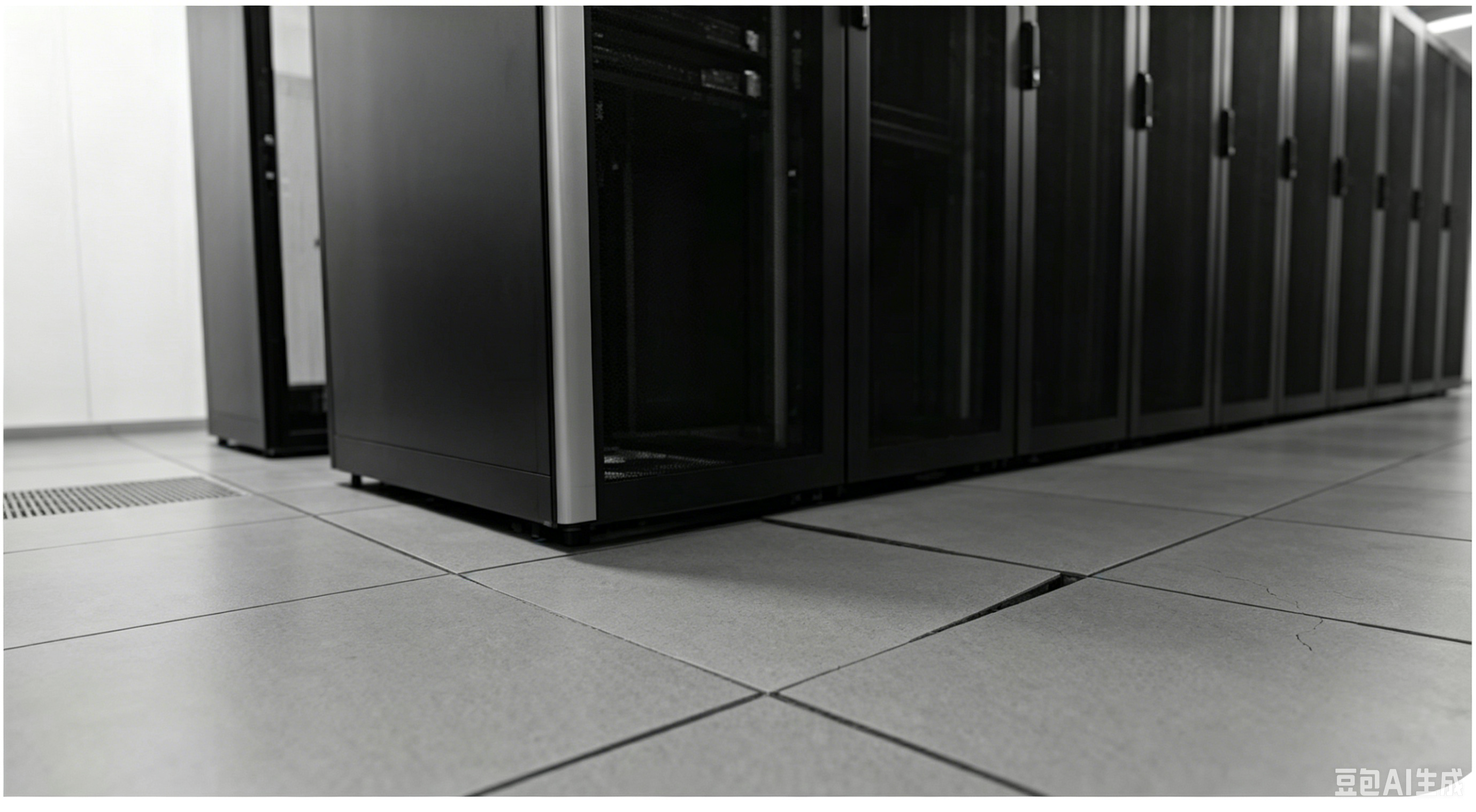floor_defect: (849, 524, 1118, 647)
